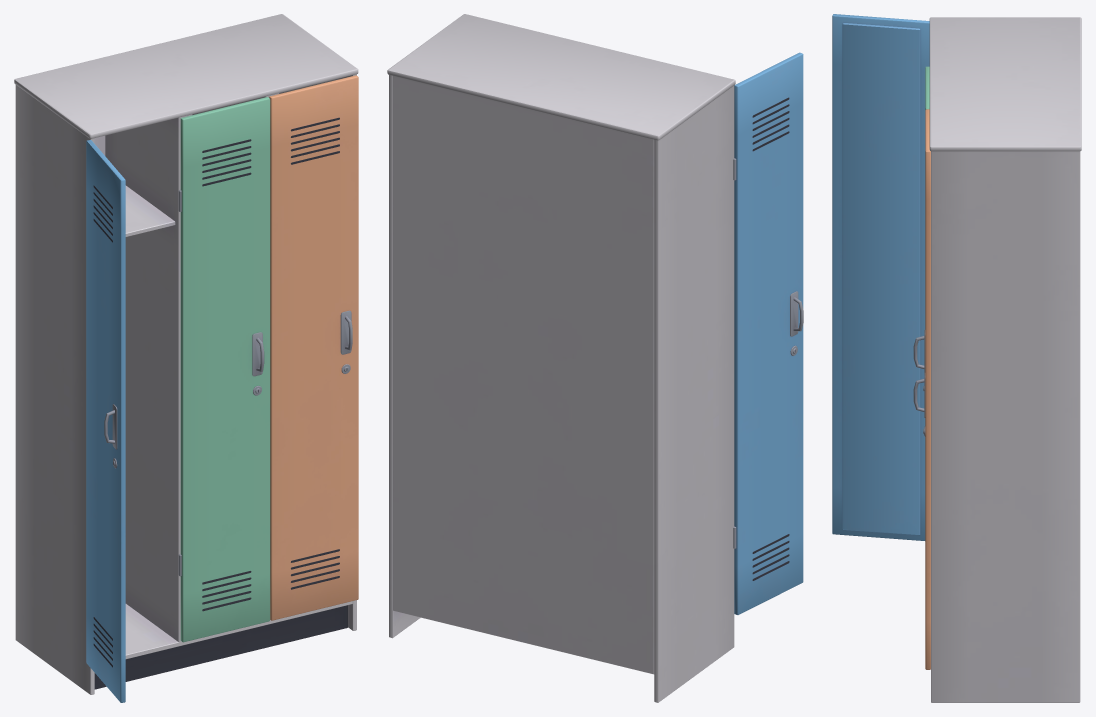
Rendered from school-locker.glb.
3 renders of one model, left to right at view 1: azimuth 30°, elevation 25°; view 2: azimuth 150°, elevation 25°; view 3: azimuth 270°, elevation 25°, orthographic.
Parts seen in each view (by area): view 1: school-locker_body, school-locker_mid_door_l, school-locker_right_door_l, school-locker_door_l; view 2: school-locker_body, school-locker_door_l; view 3: school-locker_body, school-locker_door_l, school-locker_right_door_l, school-locker_mid_door_l.
Part boxes in pixels (x1,y1,x2,y2): school-locker_body: (14, 14, 358, 694); school-locker_mid_door_l: (178, 97, 270, 642); school-locker_right_door_l: (269, 75, 358, 620); school-locker_door_l: (86, 140, 125, 702); school-locker_body: (387, 14, 735, 702); school-locker_door_l: (733, 52, 803, 614); school-locker_body: (929, 17, 1081, 702); school-locker_door_l: (832, 14, 929, 540); school-locker_right_door_l: (913, 109, 930, 669); school-locker_mid_door_l: (913, 66, 929, 390).
Size of the model in its own units: 1.02 by 1.85 by 0.751.
4 materials, 4 textured.
